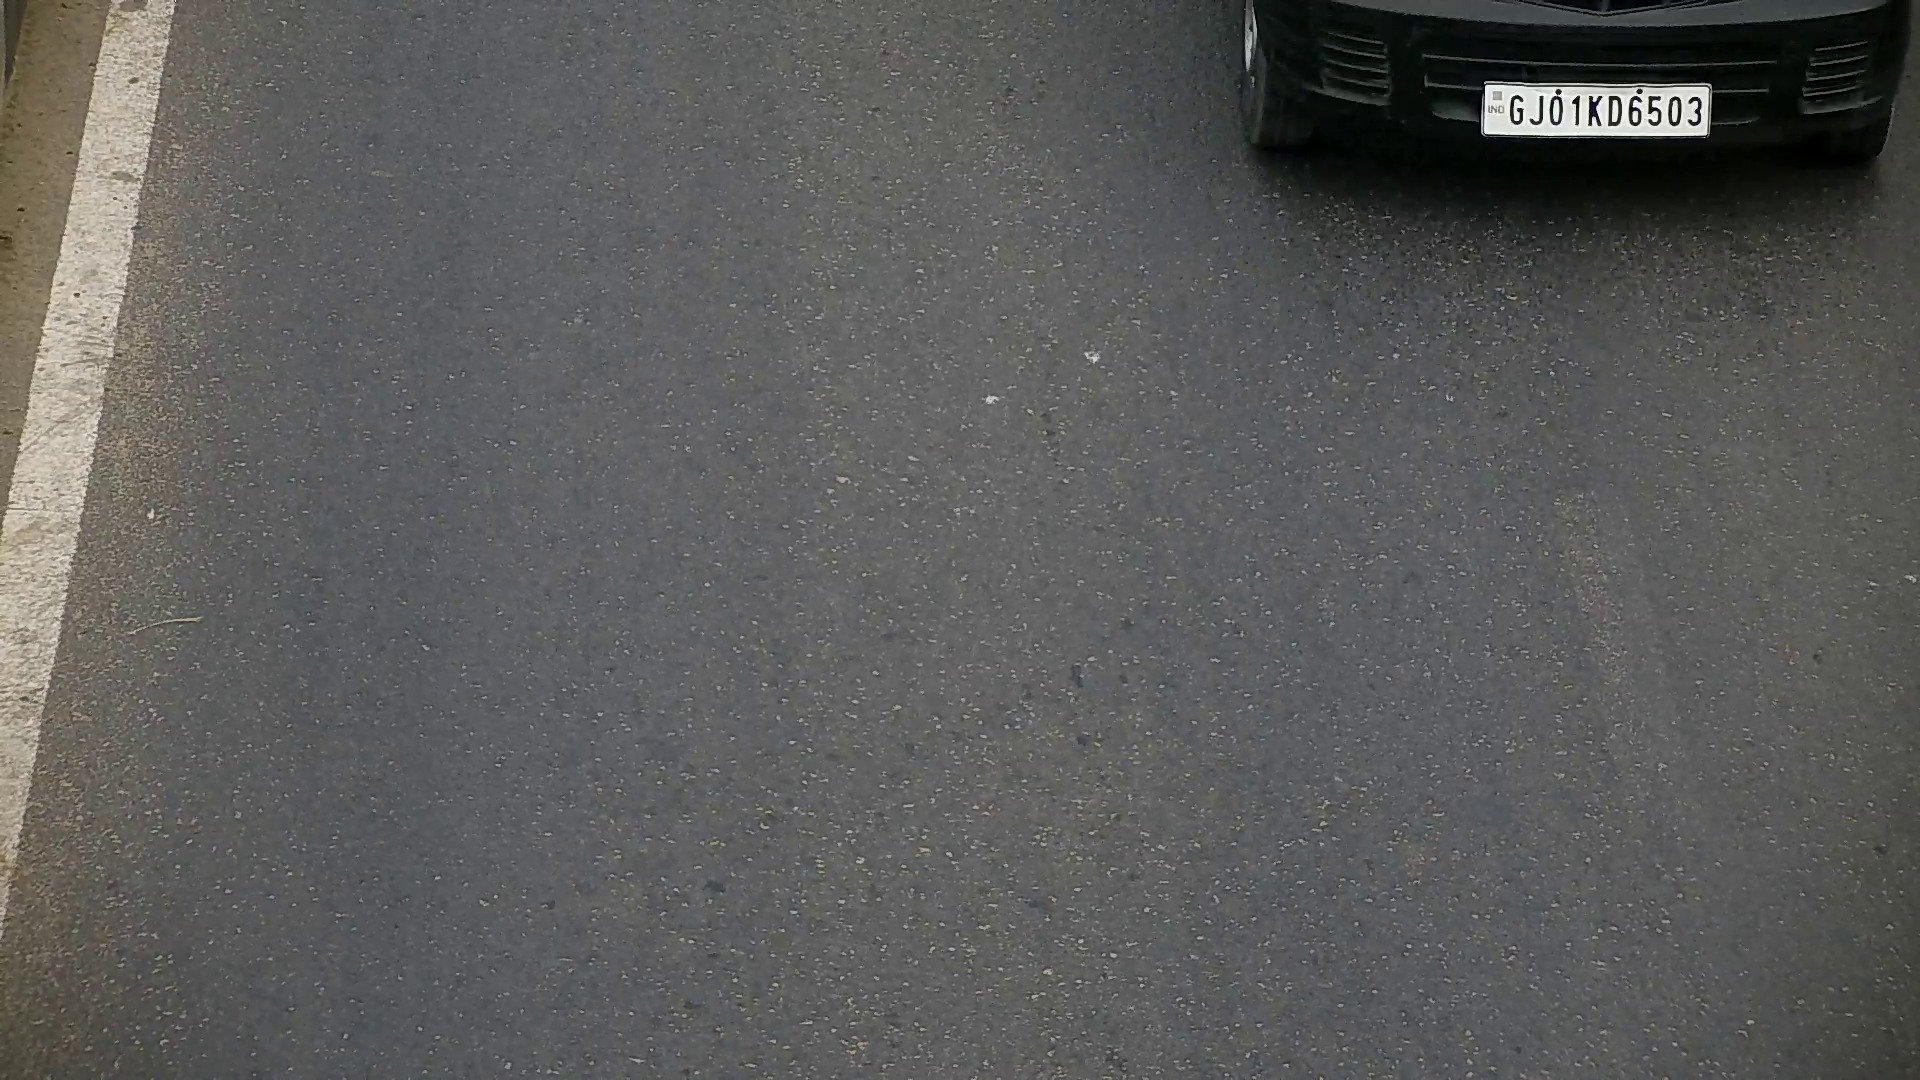numberplate: (1478, 77, 1714, 140)
